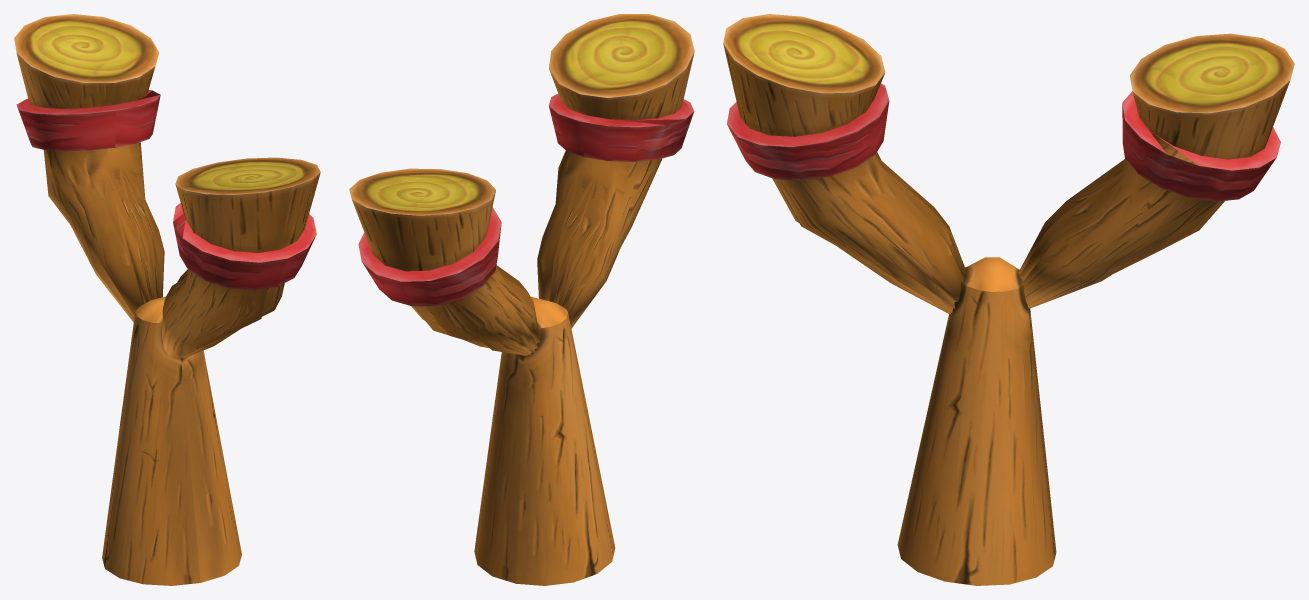
The model's file is katapult main.obj.
The picture shows the model from 3 angles, left to right: view 1: azimuth 30°, elevation 25°; view 2: azimuth 150°, elevation 25°; view 3: azimuth 270°, elevation 25°; orthographic projection. The views are drawn at different scales.
Parts seen in each view (by area): view 1: Y_vorm rechts_stok3, Y_vorm body, rechts_stok2 Y_vorm; view 2: rechts_stok2 Y_vorm, Y_vorm body, Y_vorm rechts_stok3; view 3: rechts_stok2 Y_vorm, Y_vorm rechts_stok3, Y_vorm body.
Part boxes in pixels (x1,y1,x2,y2): Y_vorm rechts_stok3: (14, 14, 164, 322); Y_vorm body: (102, 296, 241, 585); rechts_stok2 Y_vorm: (162, 157, 320, 359); rechts_stok2 Y_vorm: (537, 14, 694, 328); Y_vorm body: (474, 296, 615, 585); Y_vorm rechts_stok3: (349, 168, 539, 355); rechts_stok2 Y_vorm: (723, 14, 966, 314); Y_vorm rechts_stok3: (1018, 33, 1294, 308); Y_vorm body: (897, 257, 1056, 585).
Bounding box in the file's own units: 2.14 × 6.53 × 6.38.
Materials: 2 (2 with a texture image).
